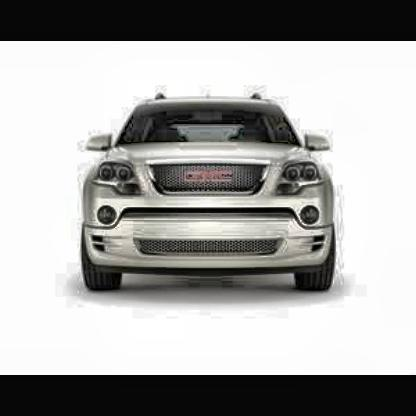GMC Acadia SUV 2012: (73, 91, 343, 303)
